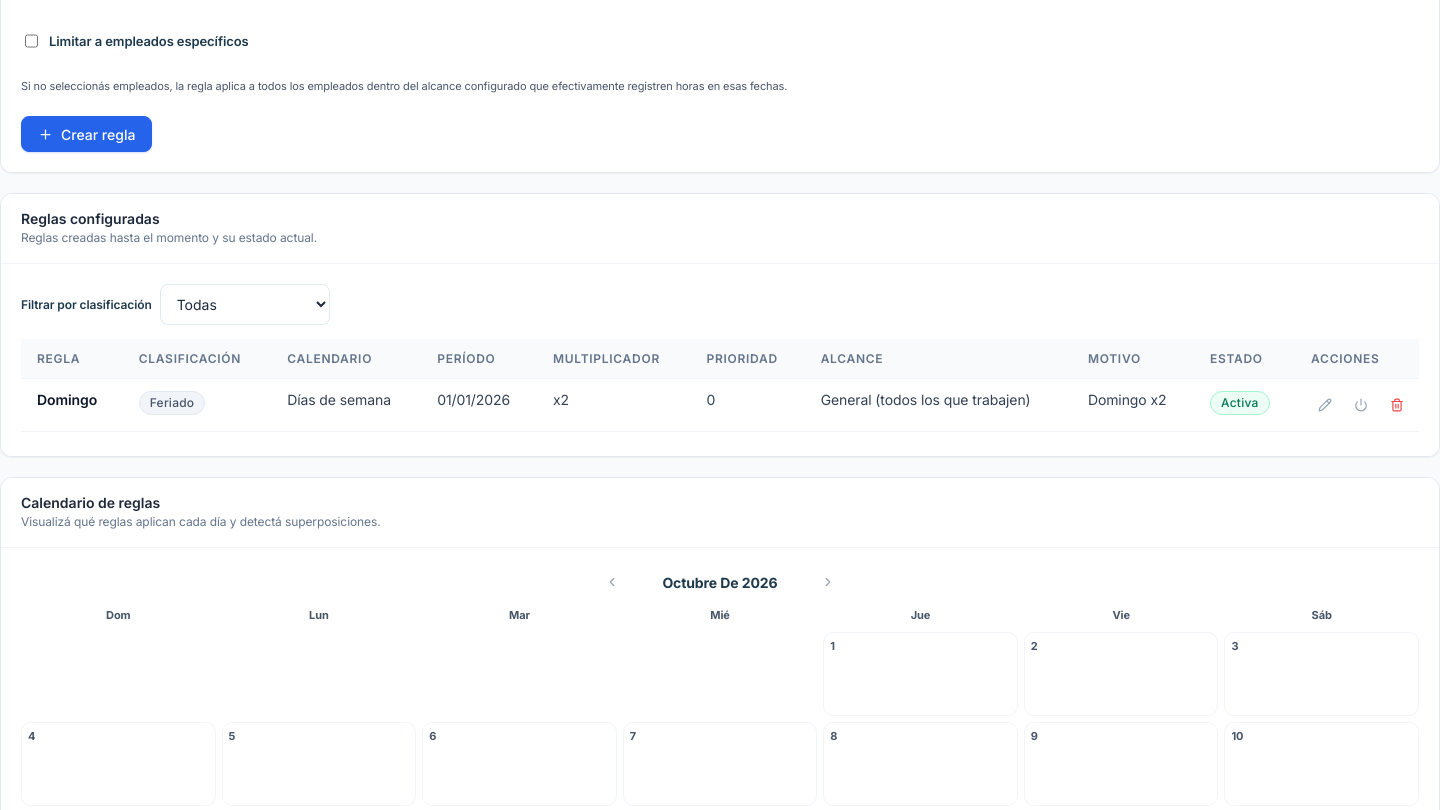
WorkScheduleSettingsPage — Etapa 12B/12C (clasificación estructurada, kind) › editar una regla existente precarga su clasificación real (no el default) y no la infiere del nombre
(page scrolled)
Check: the text "Domingo" is shown, box [37, 391, 97, 408]
Click the button named "editar domingo" at (1325, 405), box [1311, 391, 1339, 419]
(page scrolled)
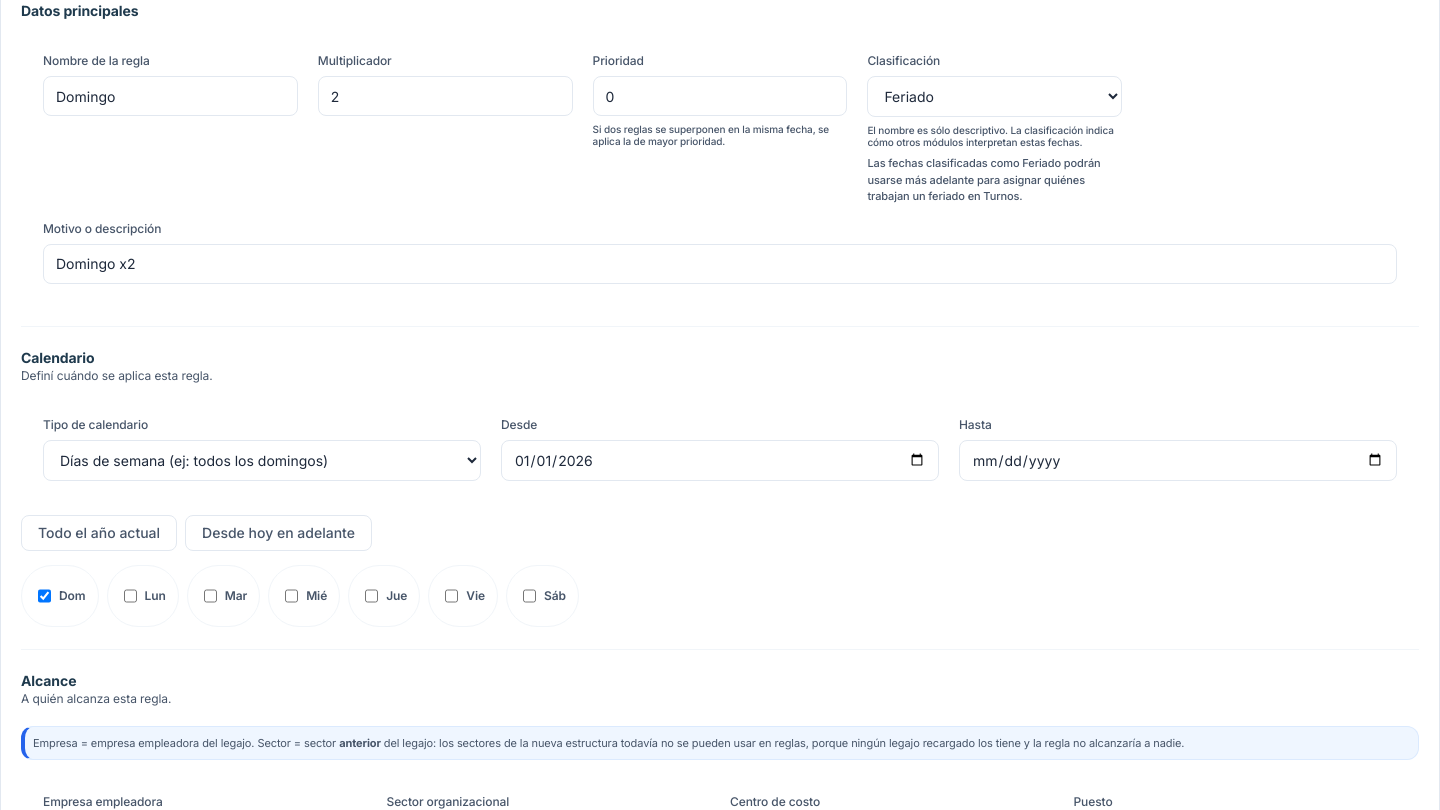
Check: the dropdown labelled "Clasificación" shows "Feriado", box [867, 76, 1122, 117]
